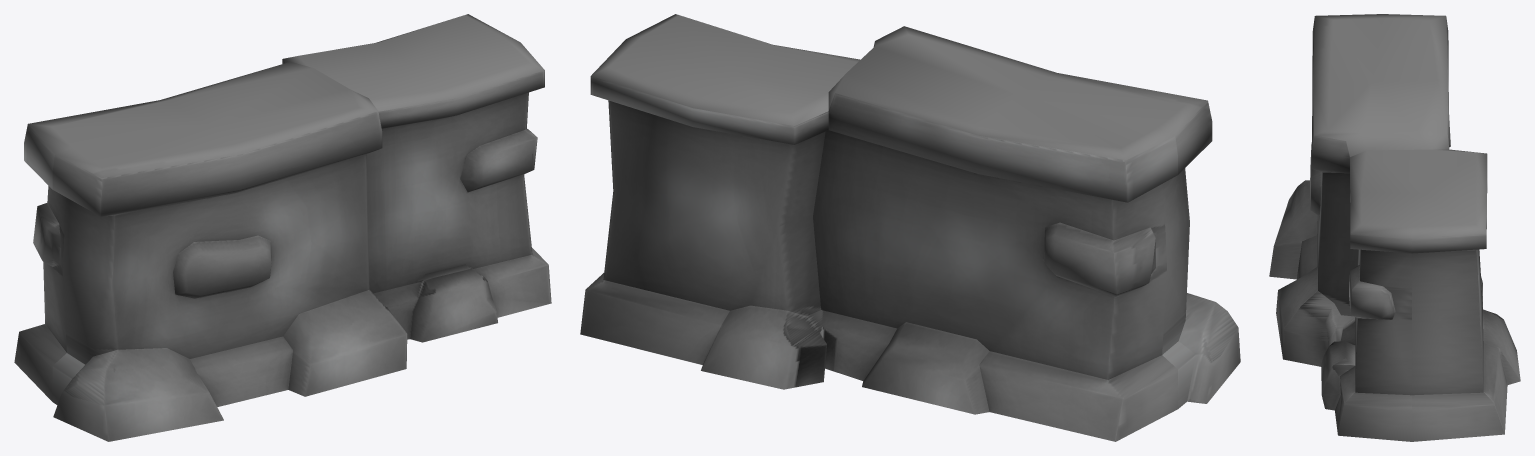
File: wall1.FBX
The picture shows the model from 3 angles, left to right: view 1: azimuth 30°, elevation 25°; view 2: azimuth 150°, elevation 25°; view 3: azimuth 270°, elevation 25°; orthographic projection. The views are drawn at different scales.
Visible parts, largest first — view 1: wall1; view 2: wall1; view 3: wall1.
Boxes of the visible parts, x1,y1,x2,y2 form: wall1: (14,14,551,441); wall1: (580,14,1240,441); wall1: (1269,14,1520,441).
Size of the model in its own units: 669 by 326 by 330.
